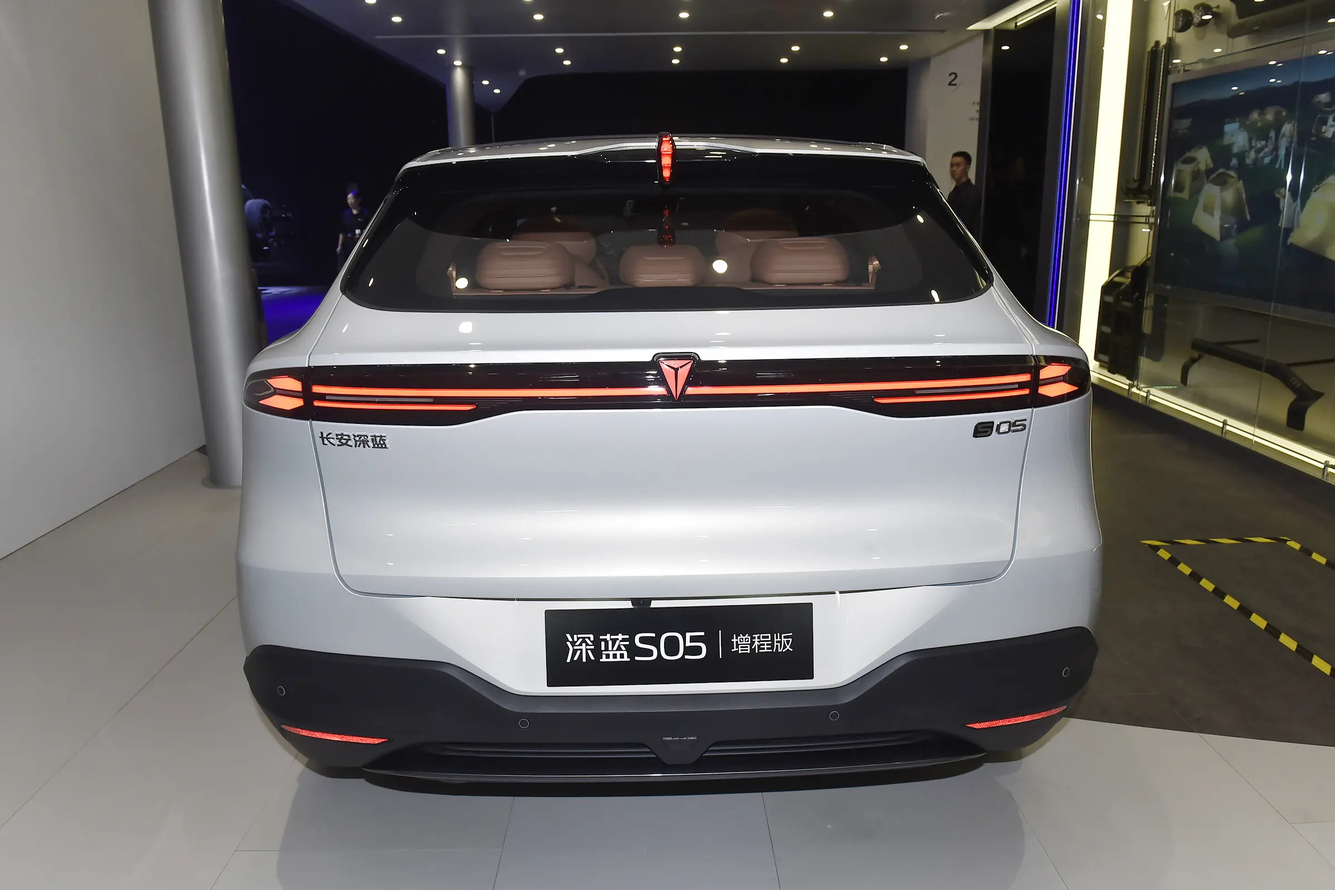Deepal: (659, 360, 693, 400)
